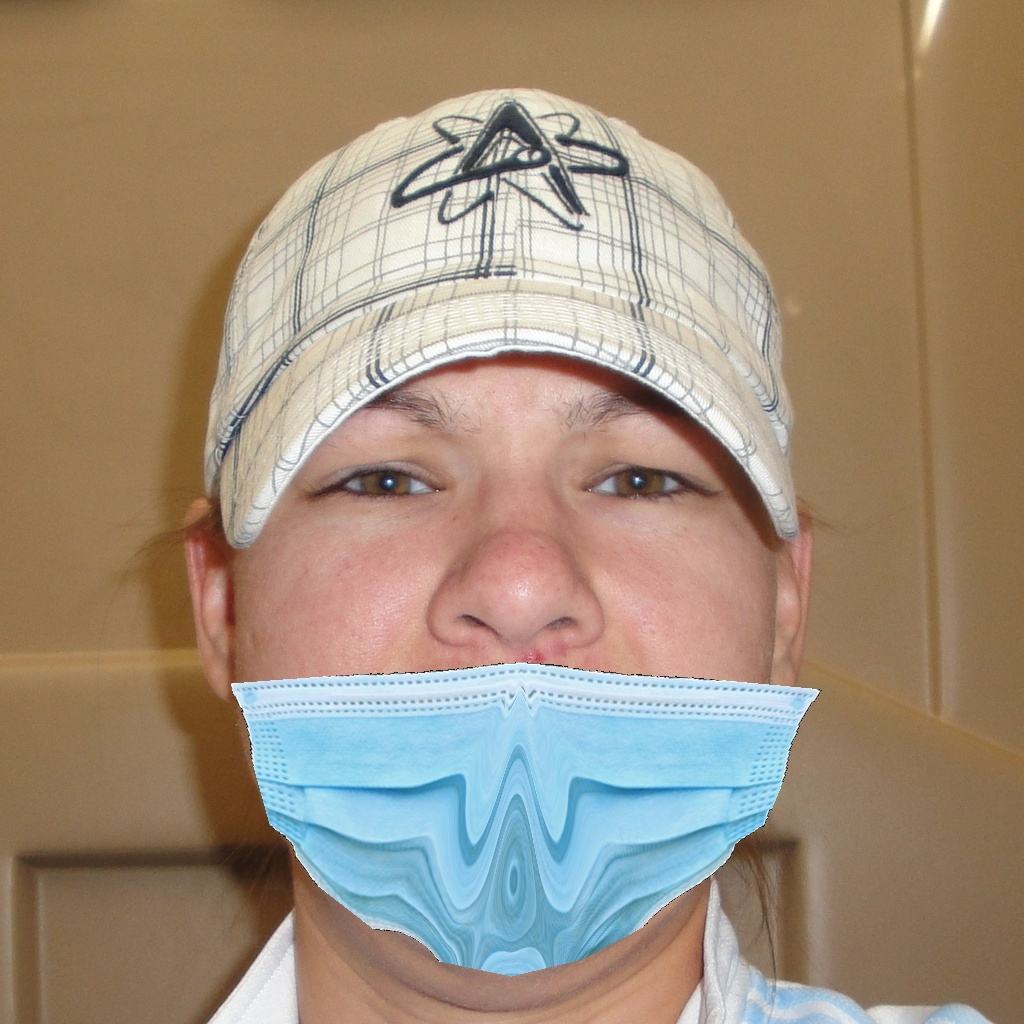mascarilla_mal_puesta: (87, 315, 892, 965)
